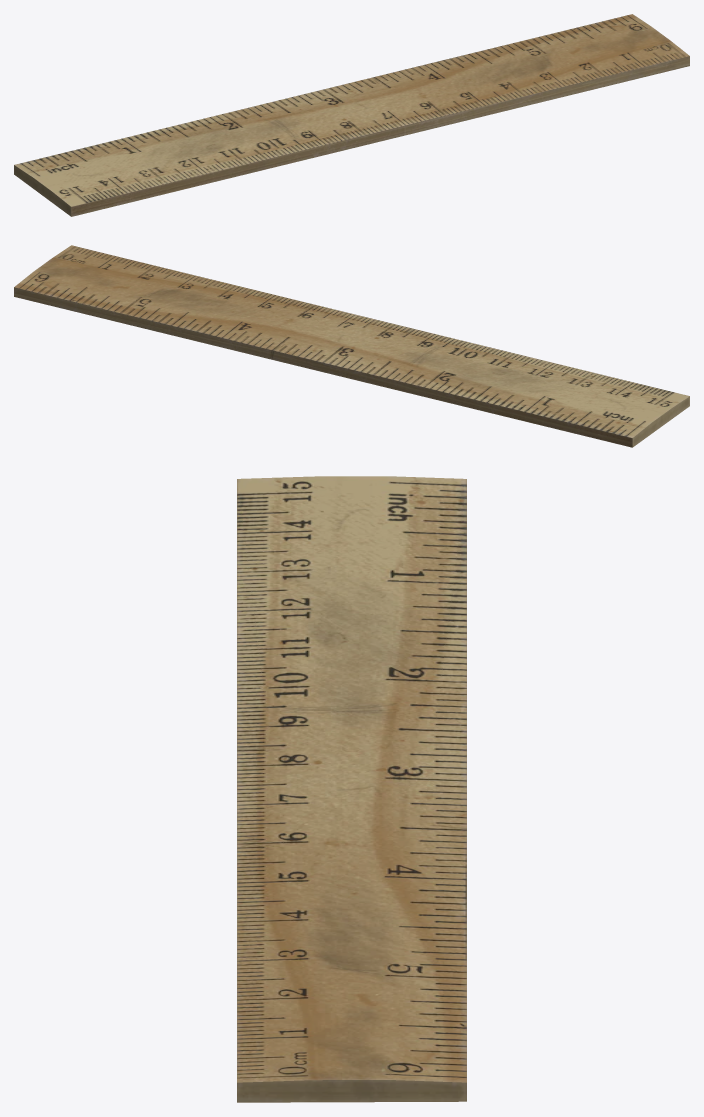
File: ruler.glb
3 renders of one model, top to bottom at view 1: azimuth 30°, elevation 25°; view 2: azimuth 150°, elevation 25°; view 3: azimuth 270°, elevation 25°, orthographic. The views are drawn at different scales.
Visible parts, largest first — view 1: Ruler_Low; view 2: Ruler_Low; view 3: Ruler_Low.
Boxes of the visible parts, left/top/right/bottom form: Ruler_Low: left=14, top=14, right=689, bottom=216; Ruler_Low: left=14, top=245, right=689, bottom=447; Ruler_Low: left=237, top=476, right=466, bottom=1102.
Size of the model in its own units: 0.1549 by 0.00272 by 0.0249.
1 material, 1 textured.
